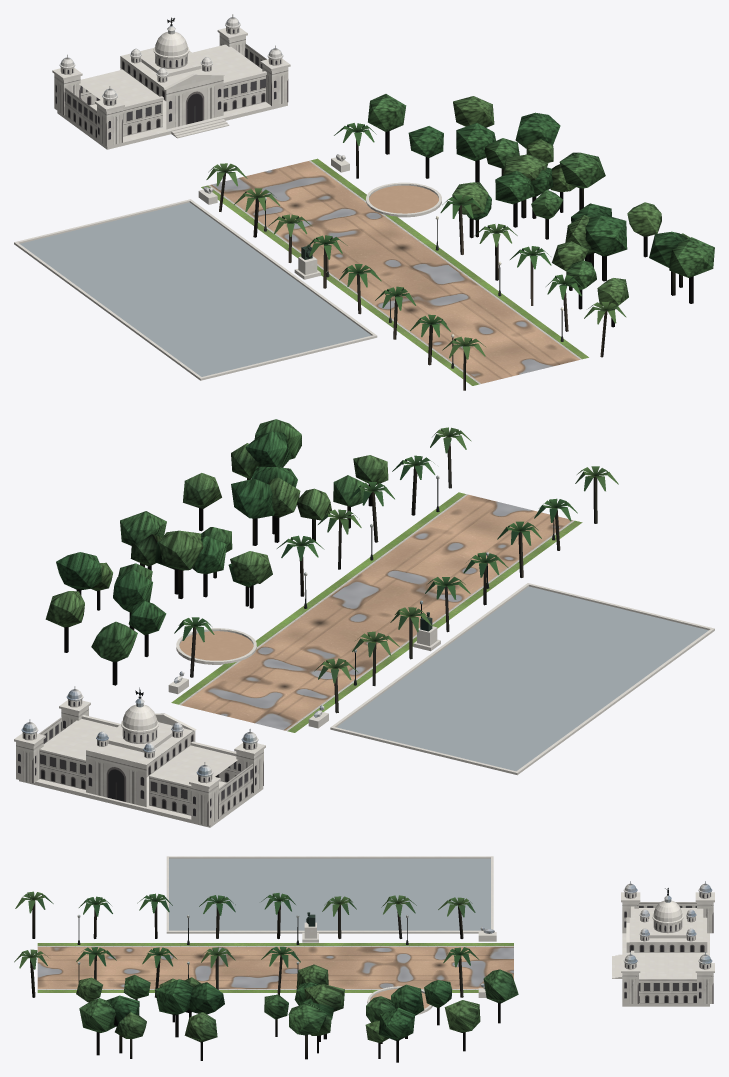
Rendered from lugar-calcuta.glb.
3 views of the same model, one above another, from view 1: azimuth 30°, elevation 25°; view 2: azimuth 150°, elevation 25°; view 3: azimuth 270°, elevation 25° (orthographic). The views are drawn at different scales.
Parts seen in each view (by area): view 1: luzS-pista, planoE, vert-cerca; view 2: luzS-pista, planoE, vert-cerca; view 3: luzS-pista, vert-cerca, planoE.
Part boxes in pixels (bbox=[...]): luzS-pista: bbox=[14, 27, 588, 385]; planoE: bbox=[20, 202, 371, 376]; vert-cerca: bbox=[59, 14, 714, 390]; luzS-pista: bbox=[14, 492, 714, 827]; planoE: bbox=[336, 586, 708, 771]; vert-cerca: bbox=[21, 419, 618, 776]; luzS-pista: bbox=[37, 856, 714, 1015]; vert-cerca: bbox=[14, 881, 712, 1062]; planoE: bbox=[169, 858, 490, 930].
Size of what is drawn, in the model's own units: 76.53 by 14.32 by 109.
9 materials, 7 textured.
